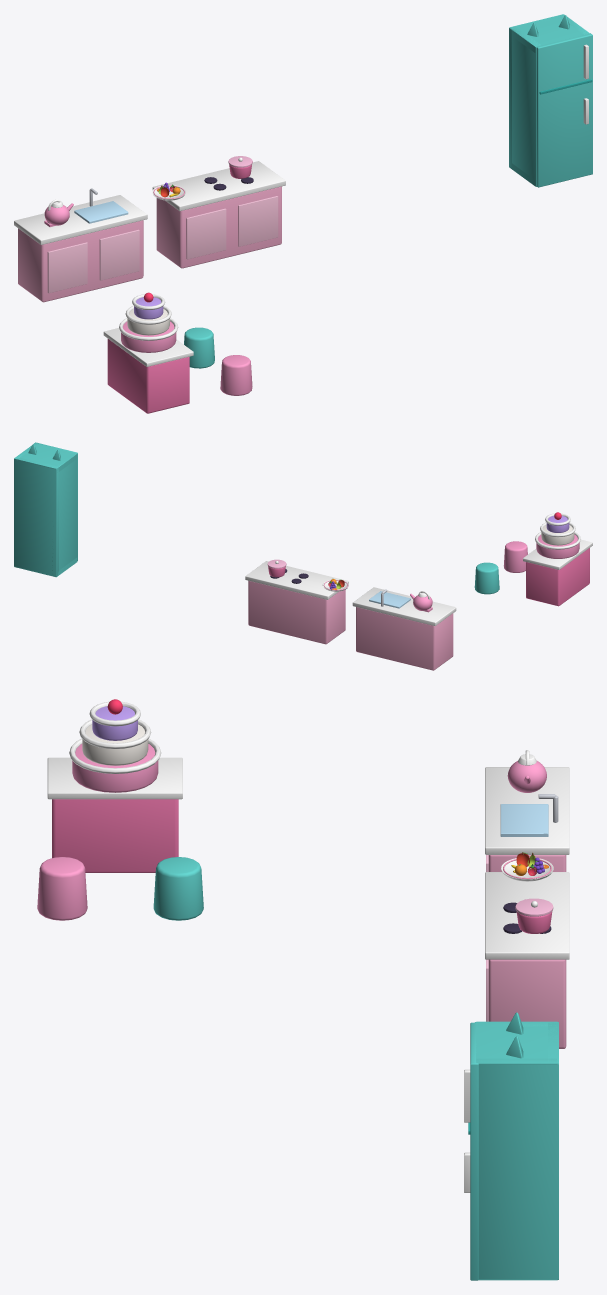
File: decor-kitchen.glb
3 views of the same model, one above another, from view 1: azimuth 30°, elevation 25°; view 2: azimuth 150°, elevation 25°; view 3: azimuth 270°, elevation 25° (orthographic). The views are drawn at different scales.
Parts seen in each view (by area): view 1: decor-item-counter-left-mesh, decor-item-counter-right-mesh, part-door-mesh, decor-item-fridge-mesh, decor-item-cake-table-mesh, part-cake-mesh, decor-item-stool-pink-mesh, decor-item-stool-teal-mesh, decor-item-kettle-mesh; view 2: decor-item-fridge-mesh, decor-item-counter-left-mesh, decor-item-counter-right-mesh, decor-item-cake-table-mesh, part-cake-mesh, decor-item-stool-teal-mesh, decor-item-stool-pink-mesh, decor-item-kettle-mesh; view 3: decor-item-fridge-mesh, decor-item-counter-right-mesh, decor-item-cake-table-mesh, decor-item-counter-left-mesh, part-cake-mesh, decor-item-stool-teal-mesh, decor-item-stool-pink-mesh, part-door-mesh, decor-item-kettle-mesh, decor-item-fruit-plate-mesh.
Boxes of the visible parts, bbox=[...] form: decor-item-counter-left-mesh: bbox=[14, 195, 147, 302]; decor-item-counter-right-mesh: bbox=[152, 161, 285, 268]; part-door-mesh: bbox=[536, 33, 592, 187]; decor-item-fridge-mesh: bbox=[509, 14, 589, 186]; decor-item-cake-table-mesh: bbox=[103, 328, 193, 413]; part-cake-mesh: bbox=[119, 292, 178, 352]; decor-item-stool-pink-mesh: bbox=[220, 355, 252, 395]; decor-item-stool-teal-mesh: bbox=[184, 327, 214, 368]; decor-item-kettle-mesh: bbox=[44, 199, 73, 225]; decor-item-fridge-mesh: bbox=[14, 443, 77, 577]; decor-item-counter-left-mesh: bbox=[352, 587, 456, 670]; decor-item-counter-right-mesh: bbox=[245, 561, 348, 644]; decor-item-cake-table-mesh: bbox=[523, 539, 592, 606]; part-cake-mesh: bbox=[535, 512, 580, 558]; decor-item-stool-teal-mesh: bbox=[474, 562, 499, 594]; decor-item-stool-pink-mesh: bbox=[503, 541, 527, 572]; decor-item-kettle-mesh: bbox=[410, 591, 432, 610]; decor-item-fridge-mesh: bbox=[475, 1012, 558, 1280]; decor-item-counter-right-mesh: bbox=[485, 872, 569, 1048]; decor-item-cake-table-mesh: bbox=[47, 757, 182, 872]; decor-item-counter-left-mesh: bbox=[485, 767, 569, 871]; part-cake-mesh: bbox=[69, 699, 161, 792]; decor-item-stool-teal-mesh: bbox=[153, 857, 203, 920]; decor-item-stool-pink-mesh: bbox=[37, 857, 87, 920]; part-door-mesh: bbox=[464, 1022, 478, 1280]; decor-item-kettle-mesh: bbox=[507, 750, 546, 792]; decor-item-fruit-plate-mesh: bbox=[501, 852, 553, 881].
Size of the model in its own units: 13.39 by 3.31 by 6.8.
